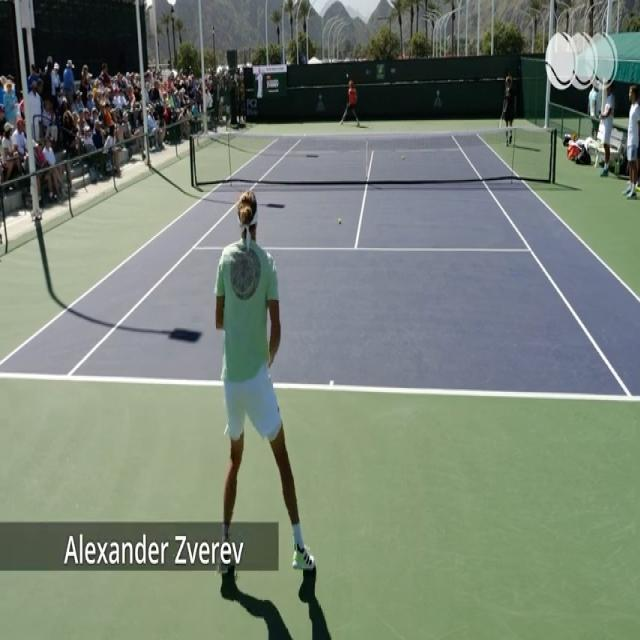ready-position: (204, 194, 314, 578)
